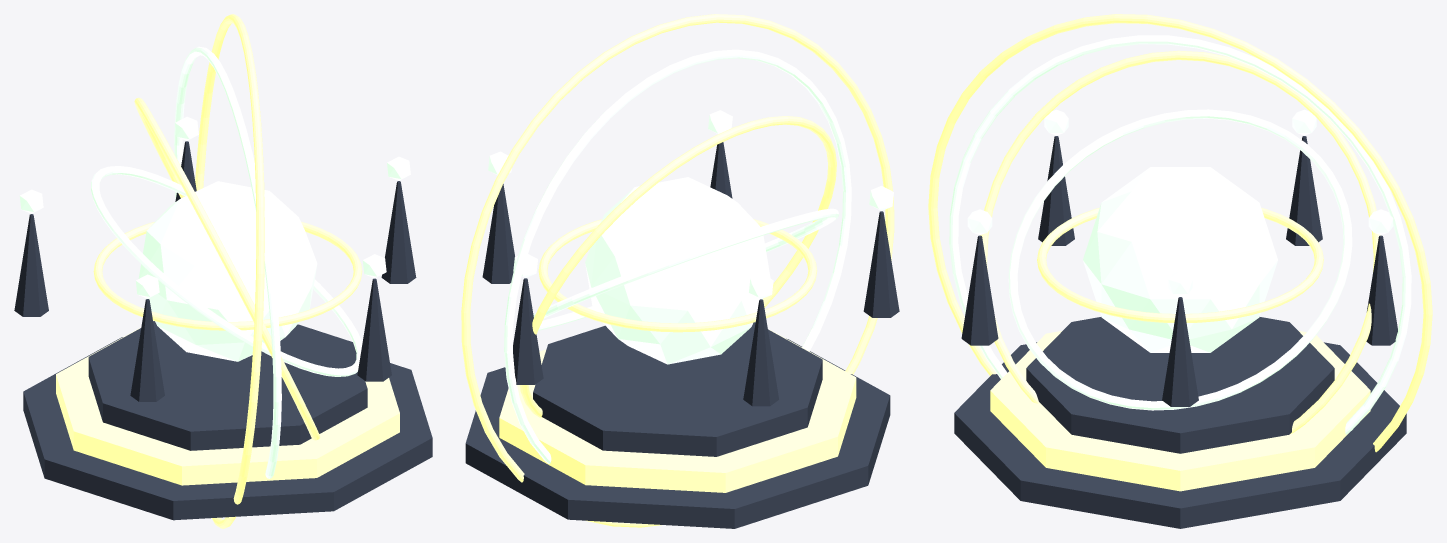
File: gpu-blender-v35.glb
3 views of the same model, side by side, from view 1: azimuth 30°, elevation 25°; view 2: azimuth 150°, elevation 25°; view 3: azimuth 270°, elevation 25° (orthographic). The views are drawn at different scales.
Visible parts, largest first — view 1: Cylinder.002, Cylinder, SovereignCore_aeo-graph-engine, Cylinder.001, Torus.004, Torus.003, Torus.001, Torus, Torus.002, Cone.004, Cone.002, Cone.003 (+1 smaller); view 2: Cylinder.002, SovereignCore_aeo-graph-engine, Cylinder, Cylinder.001, Torus.004, Torus.003, Torus.002, Torus, Torus.001, Cone.002, Cone.003, Cone (+2 smaller); view 3: SovereignCore_aeo-graph-engine, Cylinder.002, Cylinder, Cylinder.001, Torus.004, Torus.001, Torus.003, Torus.002, Torus, Cone.004, Cone, Cone.001 (+2 smaller).
Boxes of the visible parts, x1,y1,x2,y2 form: Cylinder.002: (88, 321, 367, 450); Cylinder: (23, 337, 432, 520); SovereignCore_aeo-graph-engine: (138, 181, 317, 361); Cylinder.001: (56, 328, 399, 485); Torus.004: (195, 14, 264, 528); Torus.003: (174, 46, 281, 478); Torus.001: (91, 166, 362, 376); Torus: (93, 221, 362, 330); Torus.002: (134, 97, 320, 440); Cone.004: (357, 278, 391, 381); Cone.002: (14, 214, 48, 316); Cone.003: (130, 299, 164, 401); Cylinder.002: (533, 322, 822, 456); SovereignCore_aeo-graph-engine: (585, 177, 770, 364); Cylinder: (465, 338, 890, 528); Cylinder.001: (499, 330, 856, 492); Torus.004: (461, 14, 894, 527); Torus.003: (504, 49, 851, 463); Torus.002: (519, 116, 836, 417); Torus: (538, 219, 817, 332); Torus.001: (533, 208, 838, 330); Cone.002: (743, 299, 778, 406); Cone.003: (863, 211, 899, 317); Cone: (482, 184, 514, 283); SovereignCore_aeo-graph-engine: (1083, 167, 1277, 352); Cylinder.002: (1026, 317, 1334, 453); Cylinder: (954, 342, 1406, 528); Cylinder.001: (990, 330, 1370, 491); Torus.004: (928, 14, 1432, 452); Torus.001: (1008, 109, 1352, 410); Torus.003: (949, 35, 1411, 434); Torus.002: (980, 50, 1380, 433); Torus: (1037, 207, 1323, 322); Cone.004: (961, 235, 998, 345); Cone: (1162, 297, 1198, 406); Cone.001: (1366, 235, 1397, 345).
Size of the model in its own units: 4.41 by 5.33 by 4.9.
